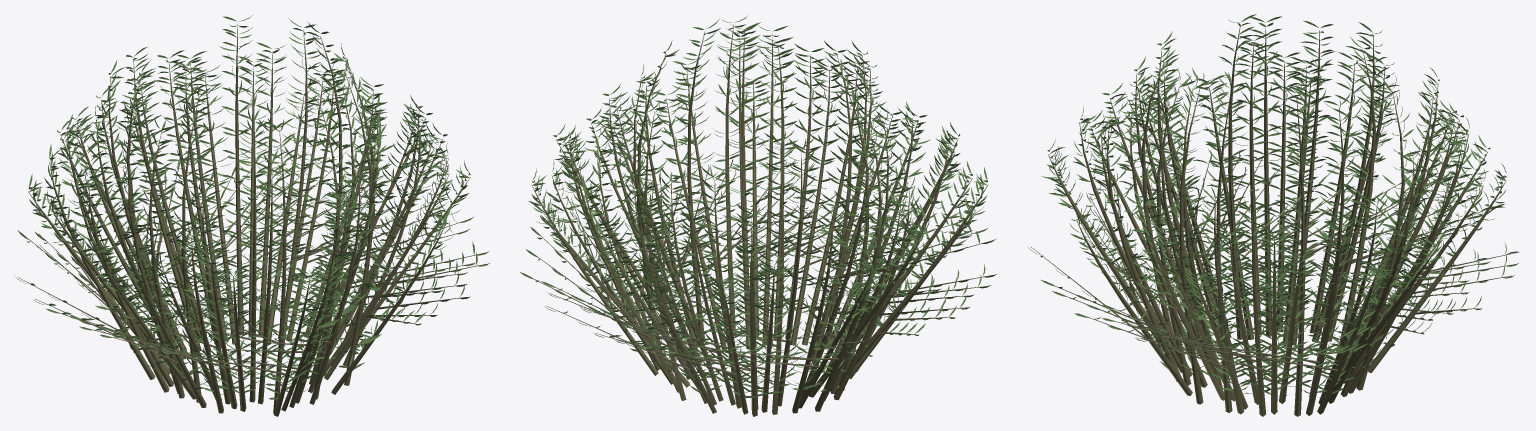
The model's file is salvia-rosmarinus.glb.
3 views of the same model, side by side, from view 1: azimuth 30°, elevation 25°; view 2: azimuth 150°, elevation 25°; view 3: azimuth 270°, elevation 25° (orthographic). The views are drawn at different scales.
Visible parts, largest first — view 1: salvia-rosmarinus dense natural leaf mound, salvia-rosmarinus connected low branching; view 2: salvia-rosmarinus dense natural leaf mound, salvia-rosmarinus connected low branching; view 3: salvia-rosmarinus connected low branching, salvia-rosmarinus dense natural leaf mound.
Part boxes in pixels (x1=…): salvia-rosmarinus dense natural leaf mound: x1=15, y1=14, x2=489, y2=399; salvia-rosmarinus connected low branching: x1=17, y1=24, x2=486, y2=416; salvia-rosmarinus dense natural leaf mound: x1=520, y1=16, x2=996, y2=397; salvia-rosmarinus connected low branching: x1=532, y1=24, x2=993, y2=416; salvia-rosmarinus connected low branching: x1=1031, y1=25, x2=1517, y2=416; salvia-rosmarinus dense natural leaf mound: x1=1028, y1=14, x2=1519, y2=398.
Size of the model in its own units: 0.8927 by 0.6603 by 0.8945.
